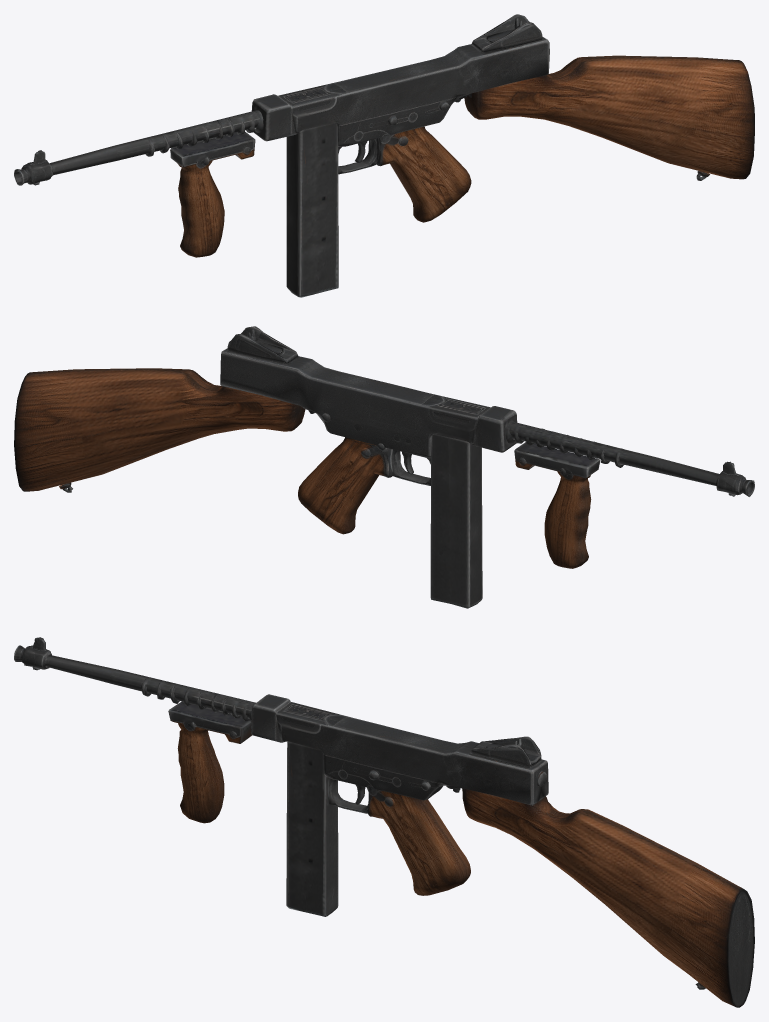
File: tommy.glb
3 views of the same model, one above another, from view 1: azimuth 30°, elevation 25°; view 2: azimuth 150°, elevation 25°; view 3: azimuth 330°, elevation 25° (orthographic).
Size of the model in its own units: 1 by 0.29 by 0.0657.
Materials: 1 (1 with a texture image).
